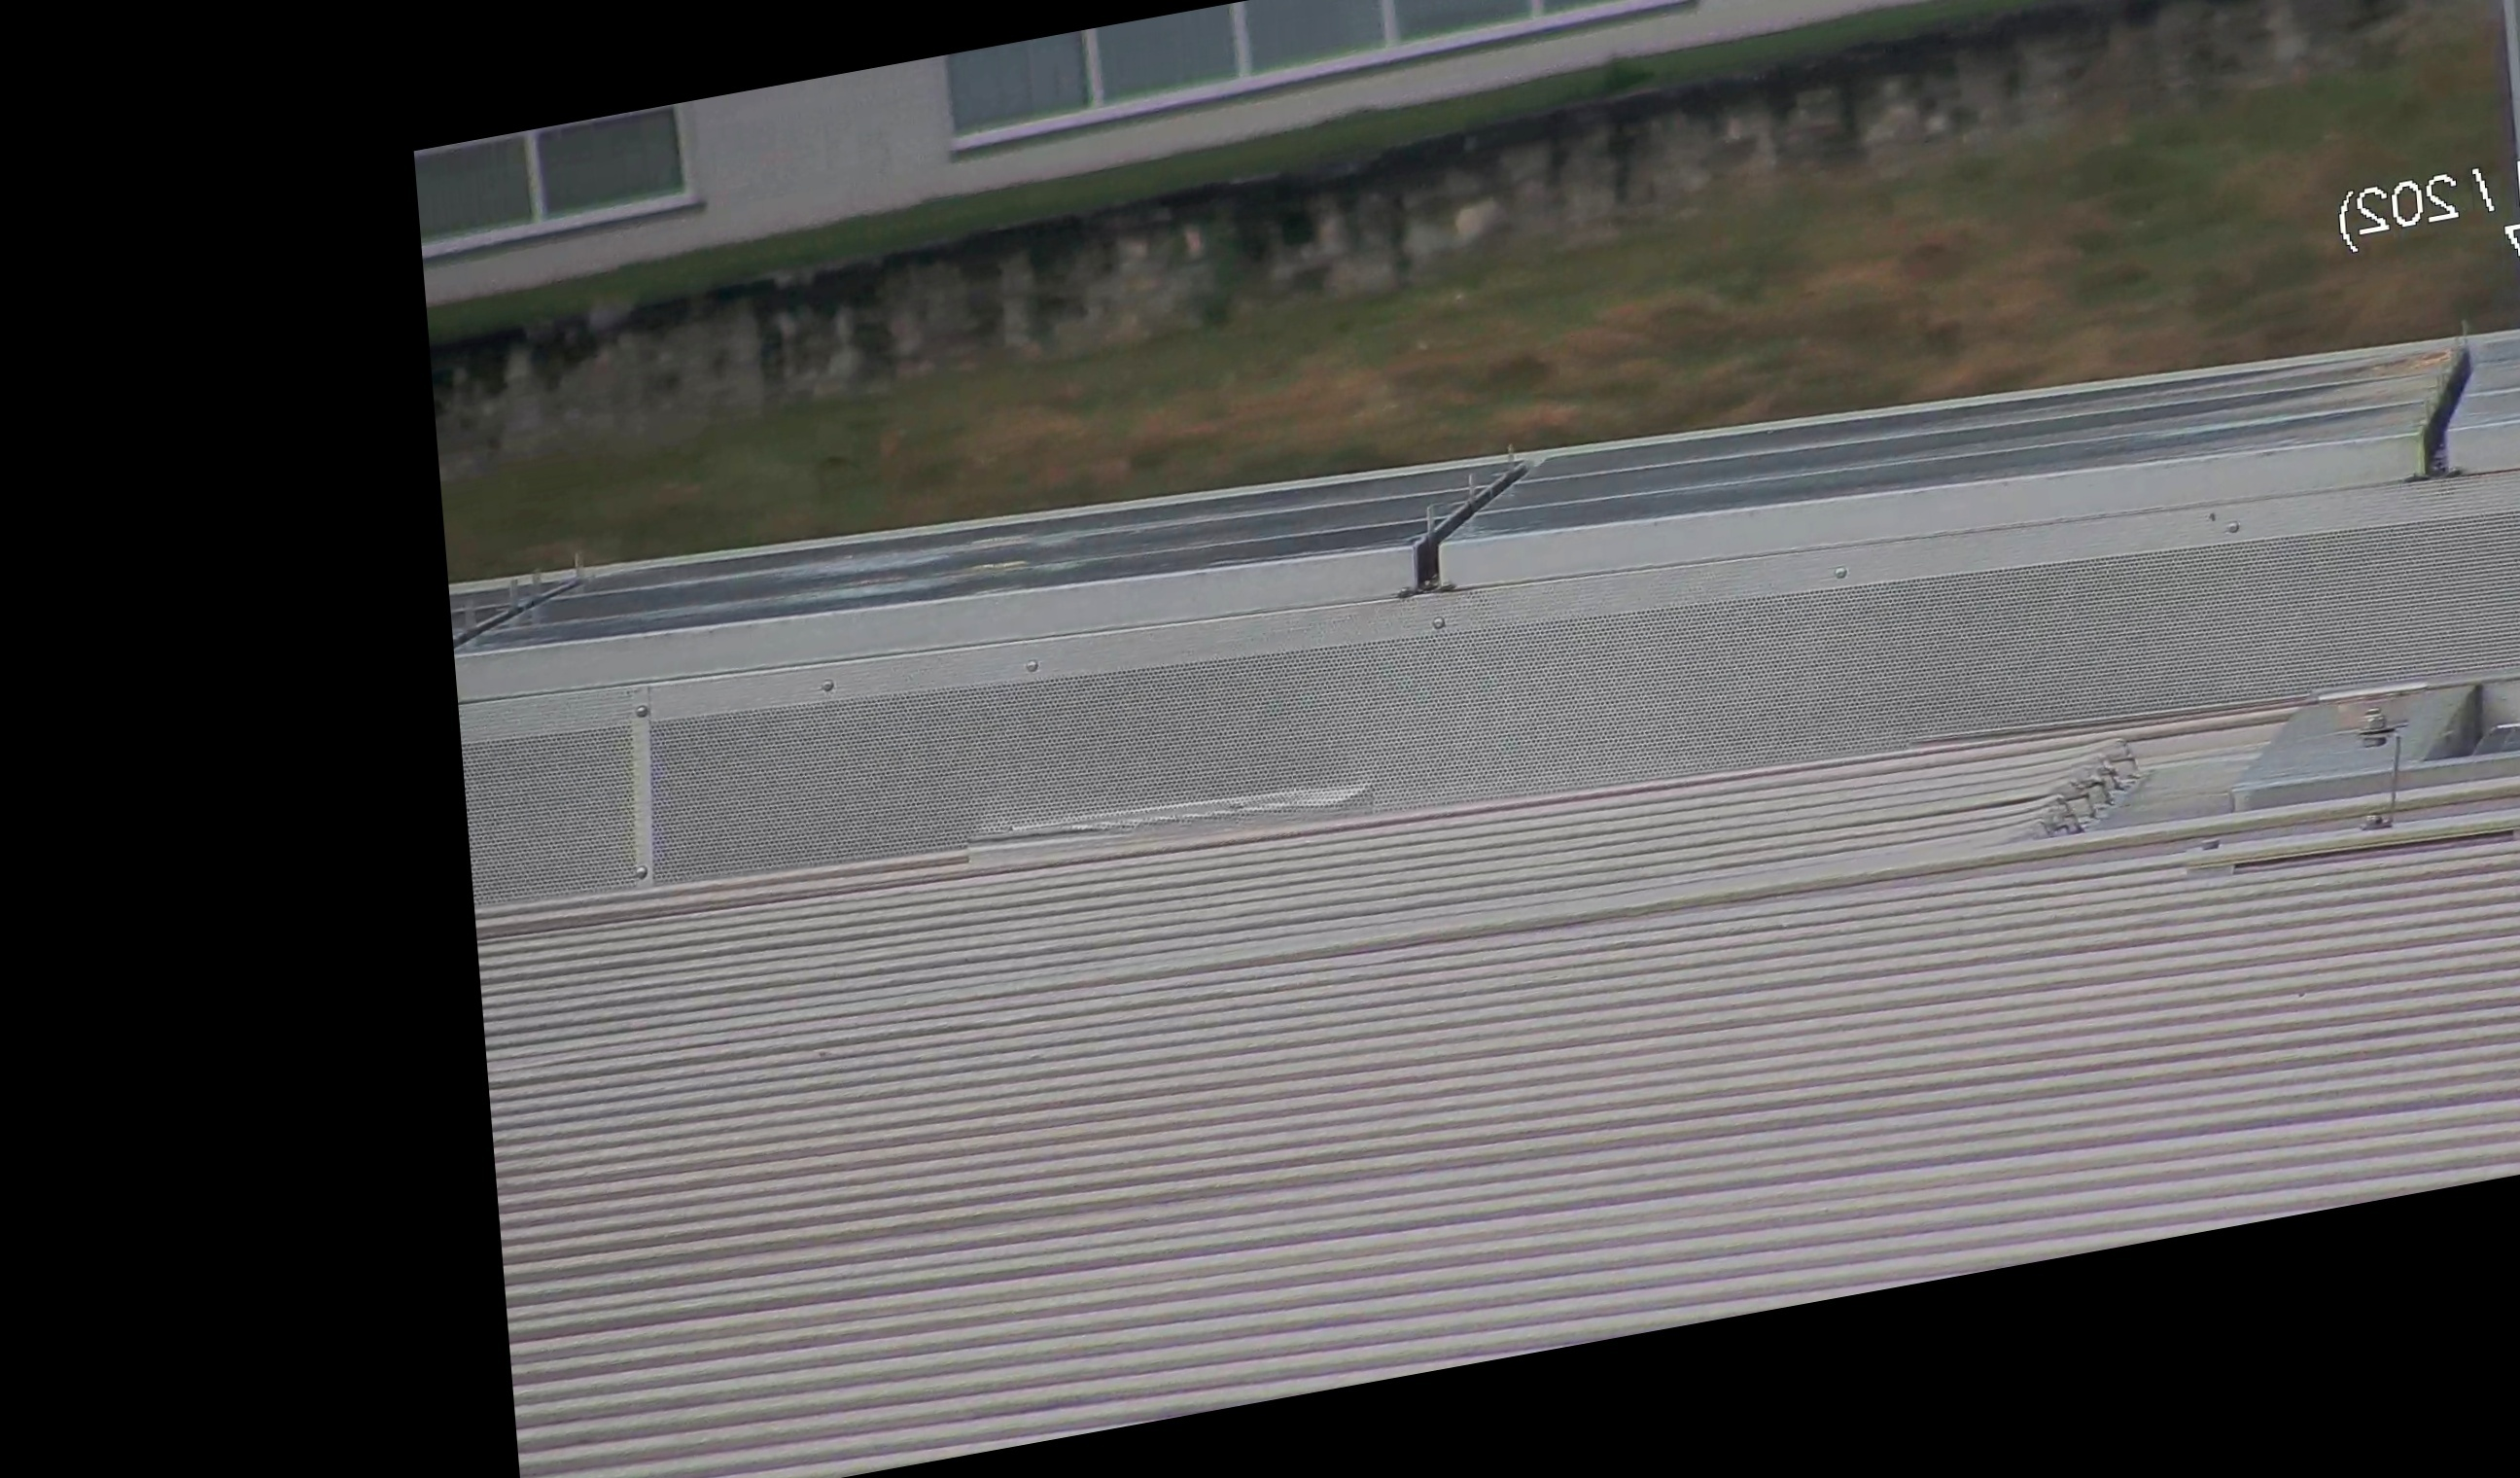Other: (2395, 324, 2499, 486)
